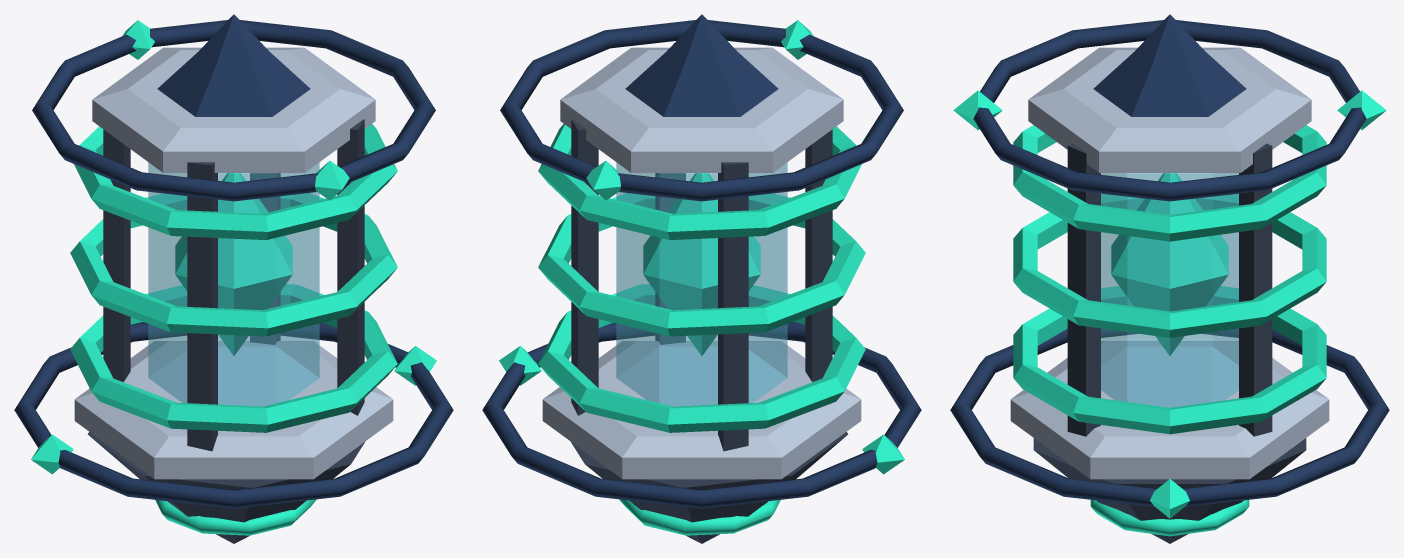
File: AirProp_OutputRelaySpire.obj
3 renders of one model, left to right at view 1: azimuth 30°, elevation 25°; view 2: azimuth 150°, elevation 25°; view 3: azimuth 270°, elevation 25°, orthographic.
Visible parts, largest first — view 1: Relay_Frame, Relay_CoreLantern, Relay_HaloUpper, Relay_HaloLower, Relay_StepRing_0, Relay_StepRing_1, Relay_StepRing_2; view 2: Relay_Frame, Relay_CoreLantern, Relay_HaloUpper, Relay_HaloLower, Relay_StepRing_0, Relay_StepRing_1, Relay_StepRing_2; view 3: Relay_Frame, Relay_CoreLantern, Relay_HaloUpper, Relay_HaloLower, Relay_StepRing_1, Relay_StepRing_0, Relay_StepRing_2.
Part boxes in pixels (x1=…): Relay_Frame: x1=74, y1=14, x2=393, y2=543; Relay_CoreLantern: x1=148, y1=162, x2=319, y2=406; Relay_HaloUpper: x1=32, y1=20, x2=435, y2=201; Relay_HaloLower: x1=14, y1=322, x2=453, y2=508; Relay_StepRing_0: x1=70, y1=284, x2=397, y2=432; Relay_StepRing_1: x1=70, y1=193, x2=397, y2=336; Relay_StepRing_2: x1=74, y1=124, x2=397, y2=239; Relay_Frame: x1=542, y1=14, x2=861, y2=543; Relay_CoreLantern: x1=616, y1=162, x2=787, y2=406; Relay_HaloUpper: x1=500, y1=20, x2=903, y2=201; Relay_HaloLower: x1=482, y1=322, x2=921, y2=508; Relay_StepRing_0: x1=538, y1=284, x2=865, y2=432; Relay_StepRing_1: x1=538, y1=193, x2=865, y2=336; Relay_StepRing_2: x1=538, y1=124, x2=861, y2=239; Relay_Frame: x1=1010, y1=14, x2=1329, y2=543; Relay_CoreLantern: x1=1101, y1=173, x2=1238, y2=407; Relay_HaloUpper: x1=953, y1=20, x2=1386, y2=201; Relay_HaloLower: x1=950, y1=329, x2=1389, y2=518; Relay_StepRing_1: x1=1013, y1=194, x2=1326, y2=337; Relay_StepRing_0: x1=1013, y1=286, x2=1326, y2=434; Relay_StepRing_2: x1=1013, y1=125, x2=1326, y2=241.
Size of the model in its own units: 0.794 by 0.99 by 0.744.
